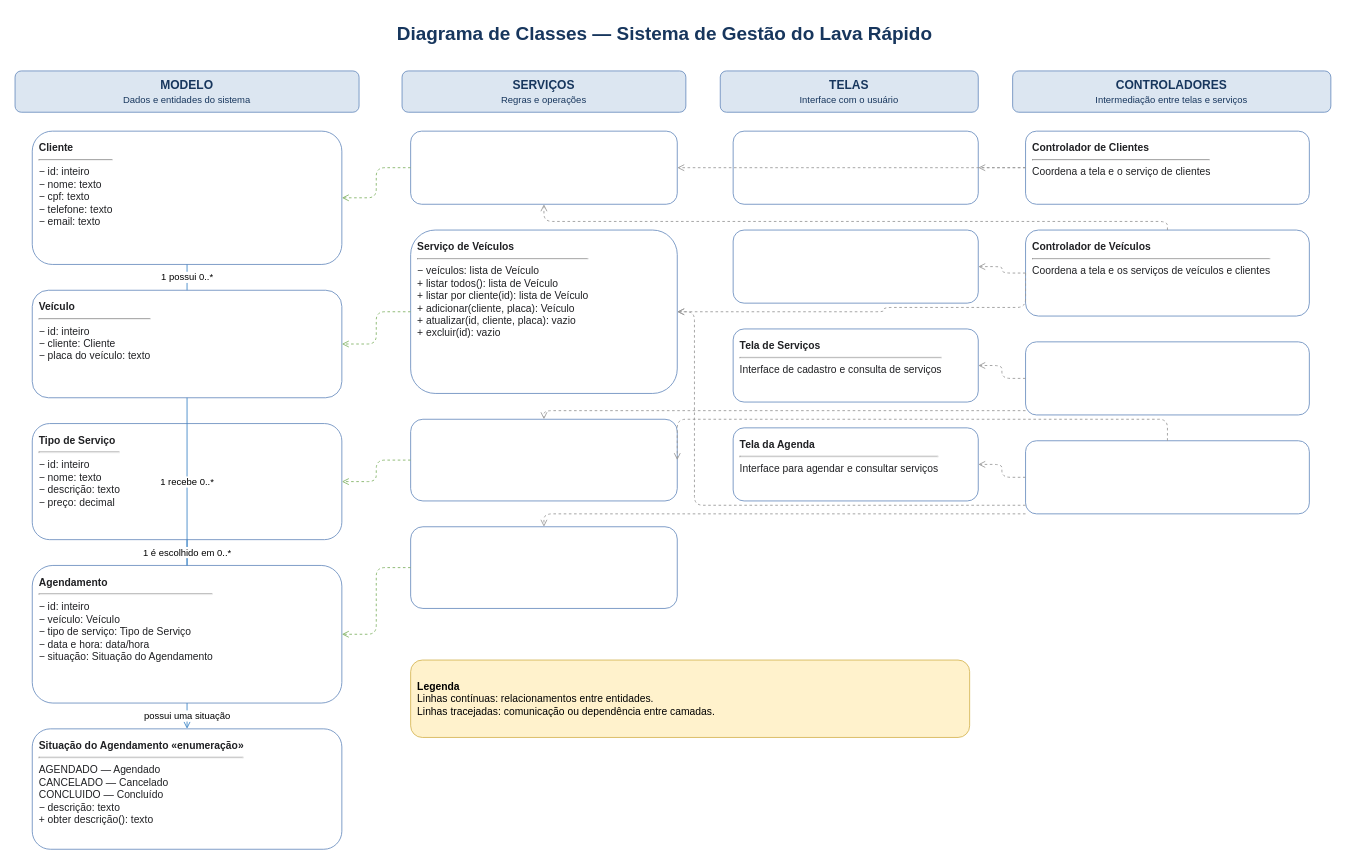
The diagram is 1346 pixels wide and 864 high, and some of its shapes have lost their labels. Each missing label, with the centre of its shape:
"Controlador de Agendamentos Coordena a agenda e os serviços necessários" goes at [1167,477].
"Controlador de Serviços Coordena a tela e o serviço de tipos de serviço" goes at [1167,378].
"Serviço de Agendamentos Responsável pelas operações de agendamento" goes at [543,567].
"Serviço de Clientes Responsável pelas operações de clientes" goes at [543,167].
"Serviço de Tipos de Serviço Responsável pelas operações de tipos de serviço" goes at [543,459].
"Tela de Clientes Interface de cadastro e consulta de clientes" goes at [855,167].
"Tela de Veículos Interface de cadastro e consulta de veículos" goes at [855,266].
